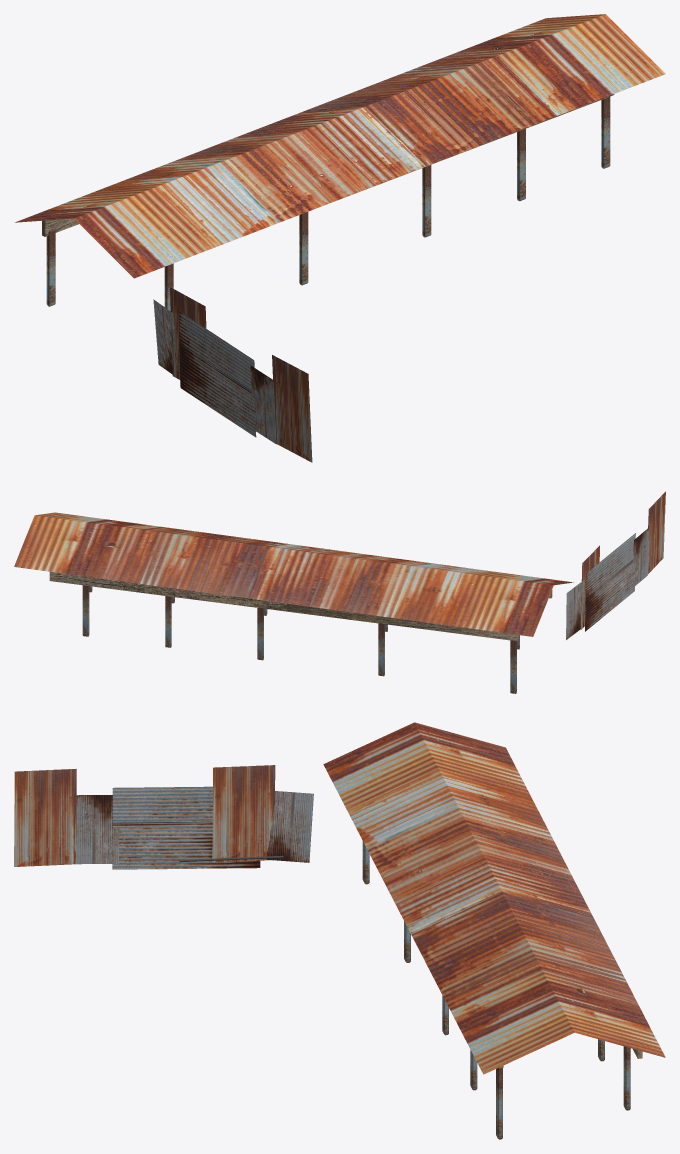
Rendered from medioFondo.glb.
The picture shows the model from 3 angles, top to bottom: view 1: azimuth 30°, elevation 25°; view 2: azimuth 150°, elevation 25°; view 3: azimuth 270°, elevation 25°; orthographic projection. The views are drawn at different scales.
Visible parts, largest first — view 1: Cube.025, Cylinder.029, Plane.003, Cube.033, Plane.004, Cube.040, Cube.034; view 2: Cube.025, Cylinder.029, Cube.026, Plane.003, Plane.004, Cube.039, Cube.040, Cube.036, Cube.037, Cube.038; view 3: Cube.025, Cylinder.029, Plane.003, Plane.004, Cube.033.
Part boxes in pixels (x1,y1,x2,y2): Cube.025: (15,14,665,278); Cylinder.029: (153,287,256,437); Plane.003: (272,355,312,462); Cube.033: (164,129,525,310); Plane.004: (250,365,276,444); Cube.040: (46,228,55,306); Cube.034: (601,97,610,168); Cube.025: (14,512,573,636); Cylinder.029: (566,533,635,639); Cube.026: (49,572,519,641); Plane.003: (647,491,665,574); Plane.004: (633,528,648,585); Cube.039: (82,585,89,636); Cube.040: (510,640,516,693); Cube.036: (378,623,384,676); Cube.037: (257,608,263,660); Cube.038: (165,596,171,647); Cube.025: (323,722,665,1074); Cylinder.029: (112,765,313,869); Plane.003: (14,768,76,866); Plane.004: (76,795,119,864); Cube.033: (362,841,477,1090).
Bounding box in the file's own units: 293 × 53.93 × 247.
5 materials, 4 textured.
